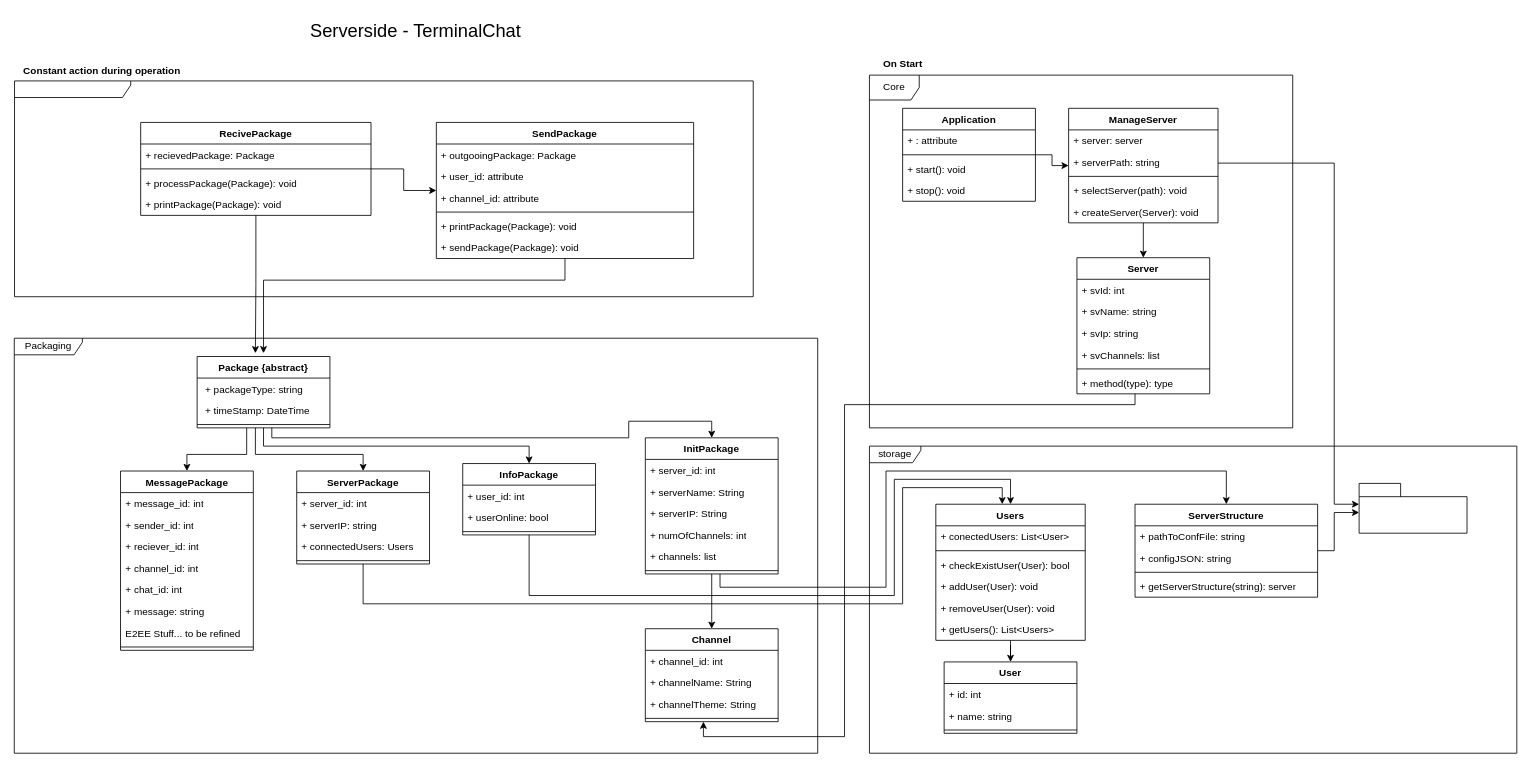
Image size: 1532x768. Some labels were removed from this diagram. Here are the shapes that lost their labels. From the top down, the centre of each, then its label:
At point 383,188: "Package handling".
At point 1412,508: "Server config file formatted in JSON".
